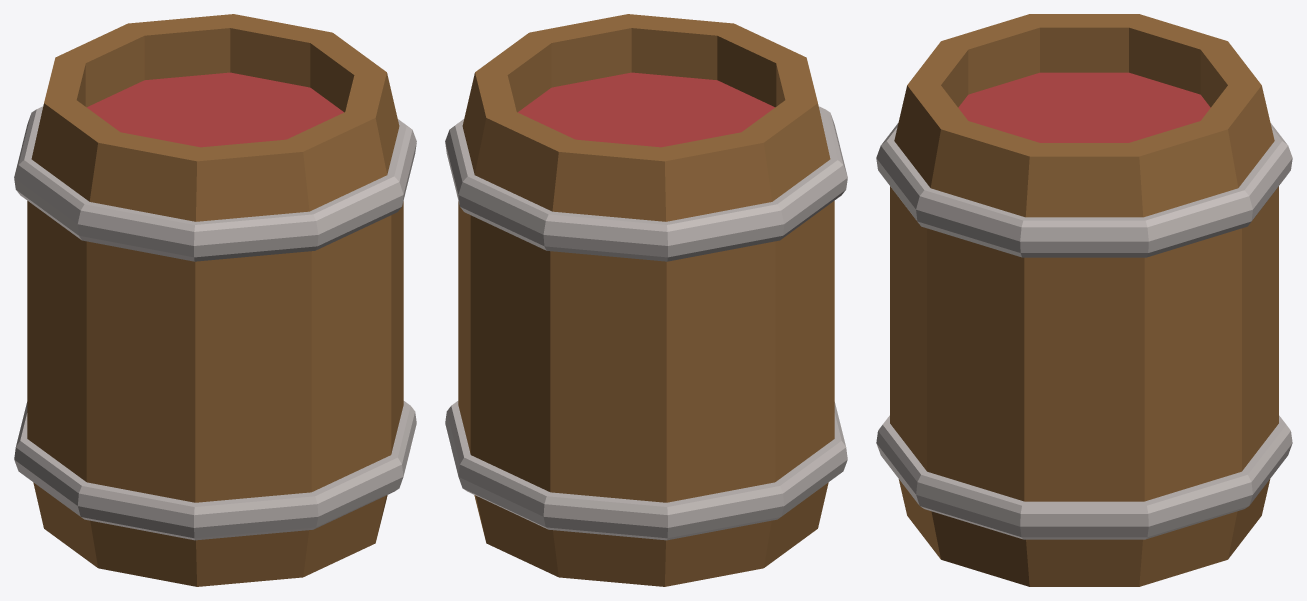
Rendered from Barrel.fbx.
3 renders of one model, left to right at view 1: azimuth 30°, elevation 25°; view 2: azimuth 150°, elevation 25°; view 3: azimuth 270°, elevation 25°, orthographic.
Parts seen in each view (by area): view 1: Barrel_Red_003__1_, Barrel_Red_002__1_, Barrel_Red_008__1_; view 2: Barrel_Red_003__1_, Barrel_Red_002__1_, Barrel_Red_008__1_; view 3: Barrel_Red_003__1_, Barrel_Red_002__1_, Barrel_Red_008__1_.
Boxes of the visible parts, x1,y1,x2,y2 form: Barrel_Red_003__1_: (27,14,403,586); Barrel_Red_002__1_: (14,106,416,540); Barrel_Red_008__1_: (87,72,343,147); Barrel_Red_003__1_: (458,14,834,586); Barrel_Red_002__1_: (445,106,847,540); Barrel_Red_008__1_: (518,72,774,147); Barrel_Red_003__1_: (890,14,1278,586); Barrel_Red_002__1_: (876,123,1292,539); Barrel_Red_008__1_: (958,72,1210,142).
Bounding box in the file's own units: 109 × 130 × 114.
